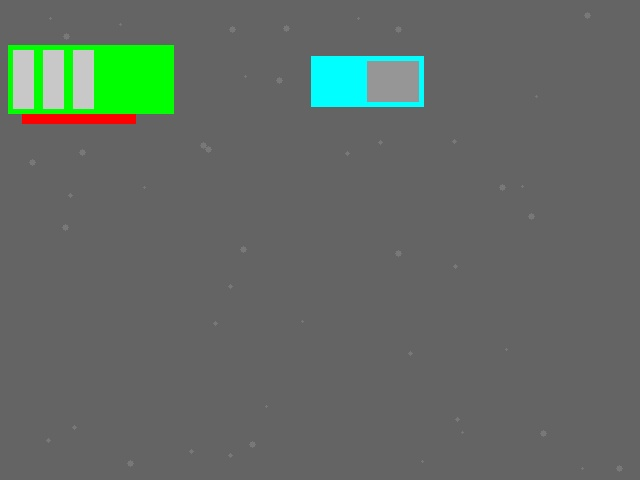bus: (8, 45, 173, 113)
car: (22, 67, 135, 123)
truck: (311, 56, 423, 106)
